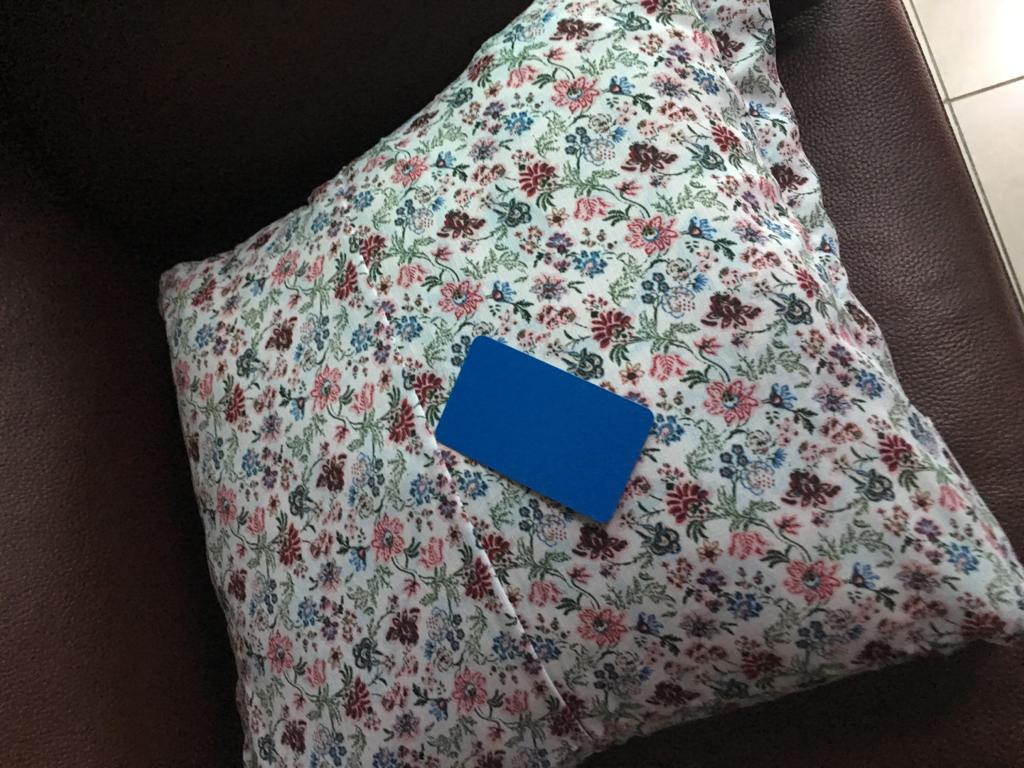blue: (419, 319, 687, 553)
